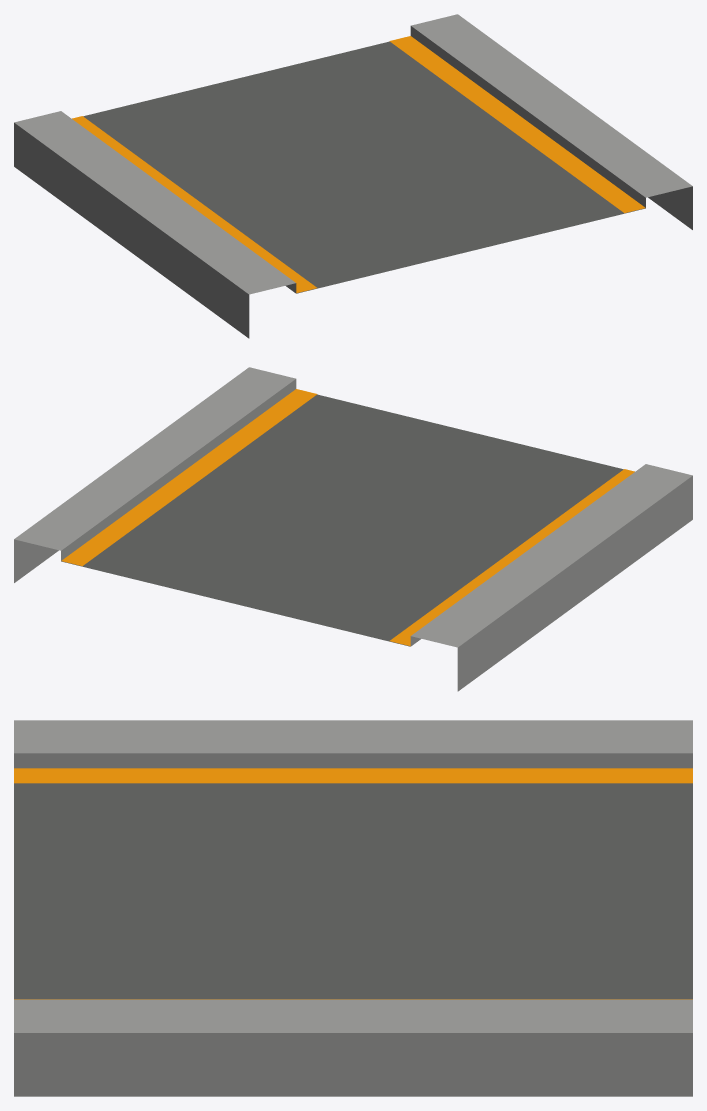
The model's file is Road_B_14.fbx.
The picture shows the model from 3 angles, top to bottom: view 1: azimuth 30°, elevation 25°; view 2: azimuth 150°, elevation 25°; view 3: azimuth 270°, elevation 25°; orthographic projection. The views are drawn at different scales.
Visible parts, largest first — view 1: Road_B_14; view 2: Road_B_14; view 3: Road_B_14.
Part boxes in pixels (box(x1,y1,x2,y2)): Road_B_14: box(14, 14, 692, 338); Road_B_14: box(14, 367, 692, 691); Road_B_14: box(14, 720, 692, 1096).
Size of the model in its own units: 436 by 41.48 by 400.
